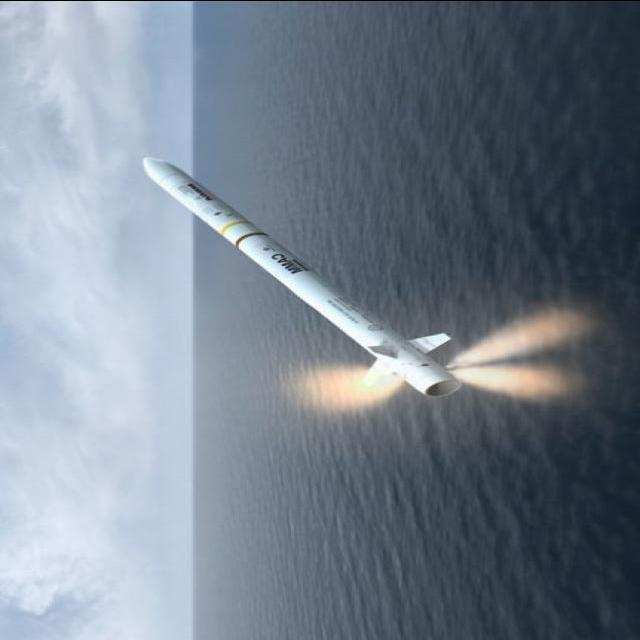missile: (135, 157, 456, 412)
